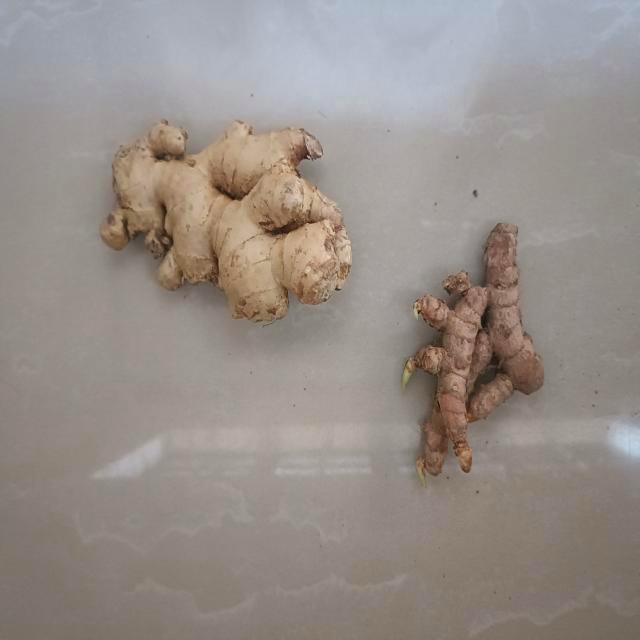ginger: (98, 108, 355, 323), (408, 221, 544, 489)
